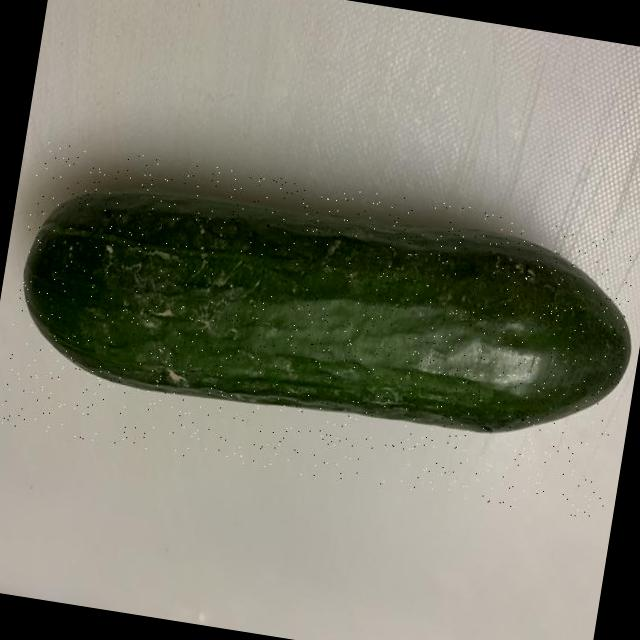Cucumber: (8, 163, 640, 459)
